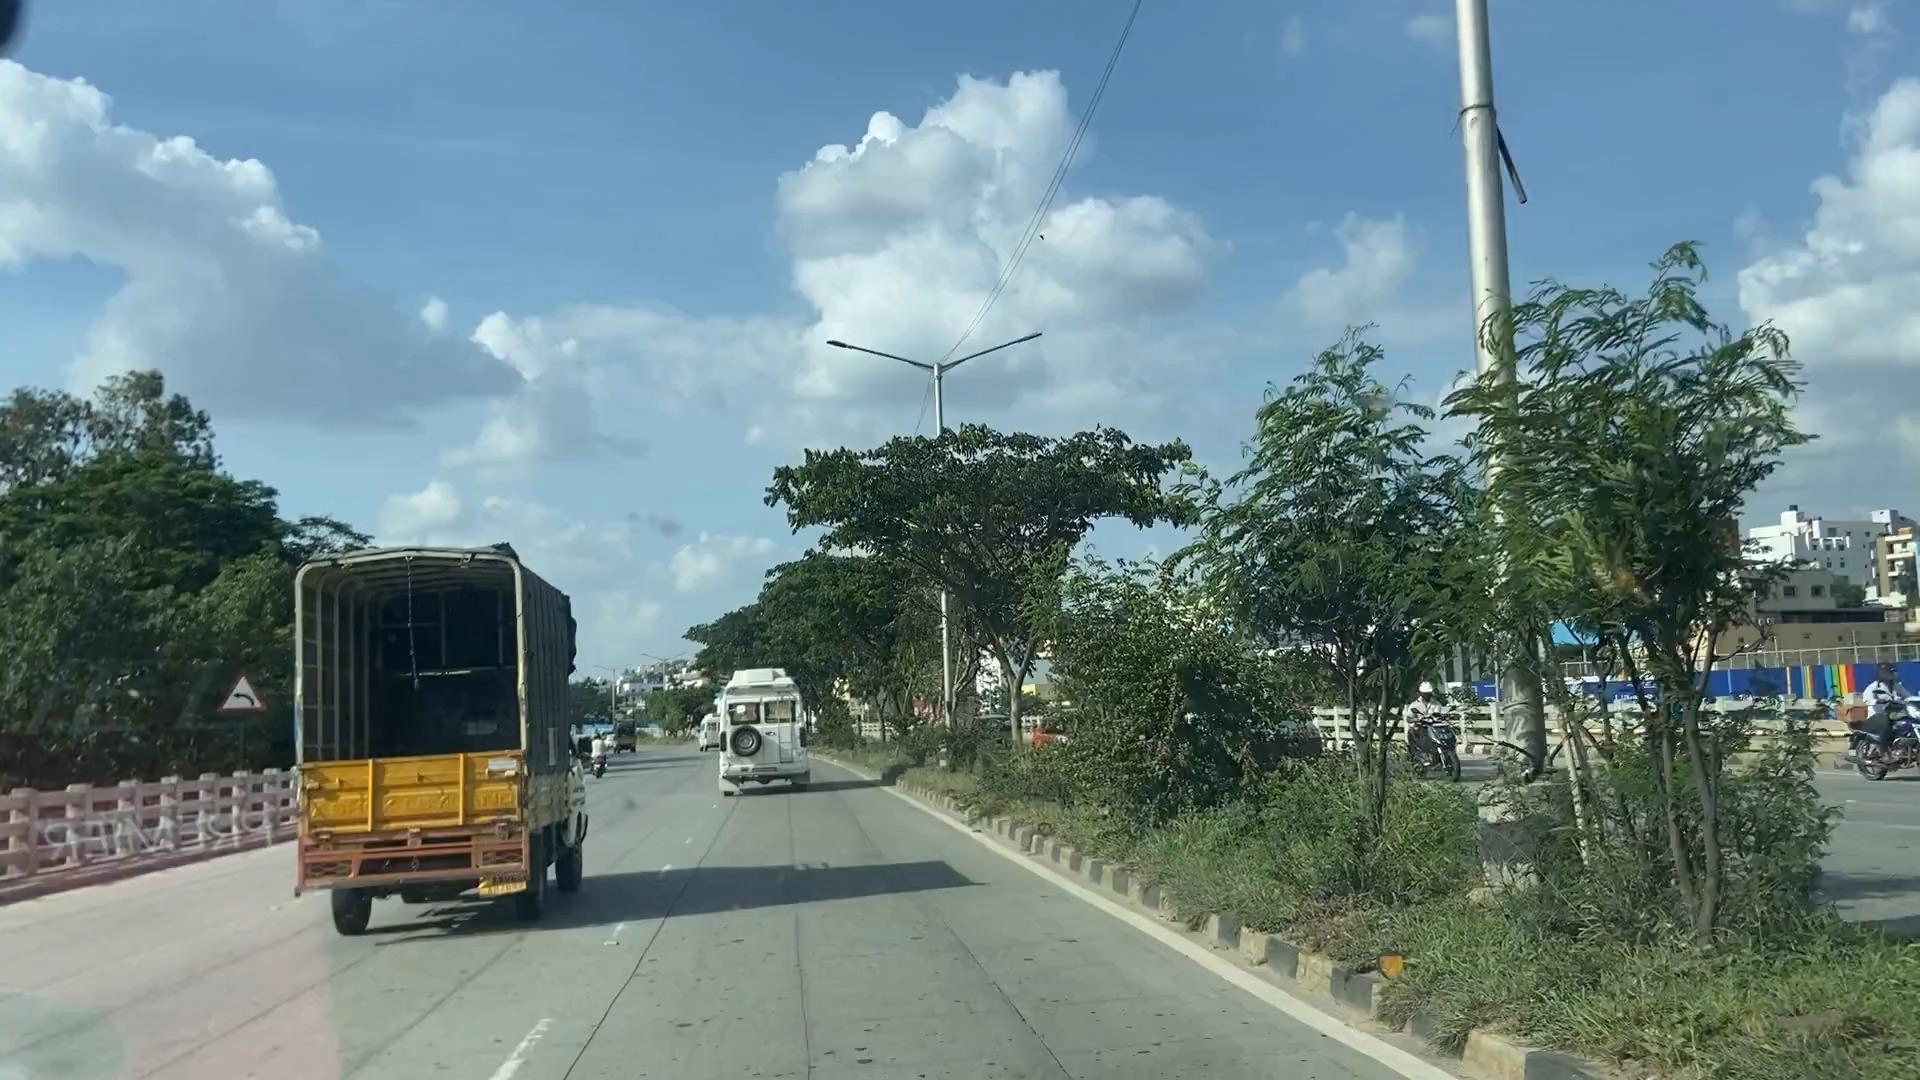HMV: (277, 545, 587, 935), (678, 654, 806, 793)
